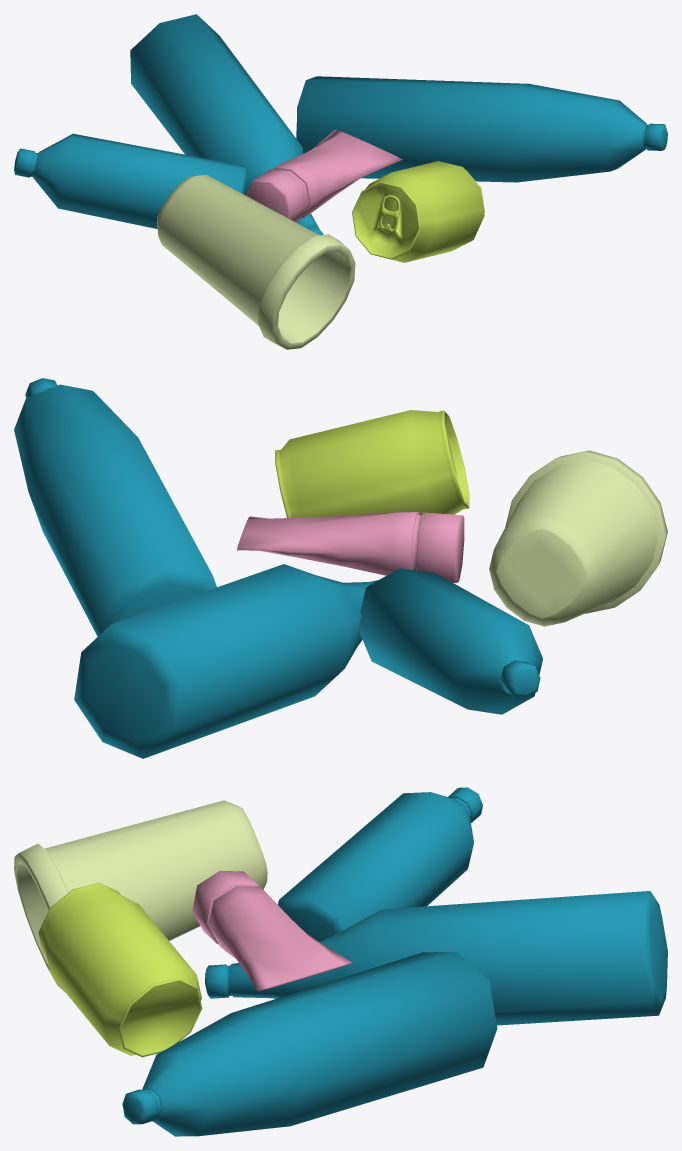
File: Amas_Plastique2.fbx
3 views of the same model, one above another, from view 1: azimuth 30°, elevation 25°; view 2: azimuth 150°, elevation 25°; view 3: azimuth 270°, elevation 25° (orthographic). The views are drawn at different scales.
Visible parts, largest first — view 1: Bouteille007, Gobelet001, Bouteille008, Bouteille011, Canette_003, Creme002; view 2: Bouteille008, Bouteille007, Gobelet001, Bouteille011, Canette_003, Creme002; view 3: Bouteille007, Bouteille008, Gobelet001, Canette_003, Bouteille011, Creme002.
Part boxes in pixels (<box>): Bouteille007: <box>296,76,667,182</box>; Gobelet001: <box>157,174,355,349</box>; Bouteille008: <box>130,14,323,235</box>; Bouteille011: <box>14,133,246,228</box>; Canette_003: <box>352,161,484,262</box>; Creme002: <box>246,129,402,222</box>; Bouteille008: <box>74,564,378,758</box>; Bouteille007: <box>14,378,216,636</box>; Gobelet001: <box>489,450,667,626</box>; Bouteille011: <box>359,568,542,714</box>; Canette_003: <box>275,410,469,517</box>; Creme002: <box>237,512,464,582</box>; Bouteille007: <box>122,952,497,1136</box>; Bouteille008: <box>205,891,667,1025</box>; Gobelet001: <box>14,800,267,991</box>; Canette_003: <box>38,882,202,1057</box>; Bouteille011: <box>278,787,482,941</box>; Creme002: <box>192,871,352,991</box>.
Bounding box in the file's own units: 35.59 × 8.49 × 31.15.
